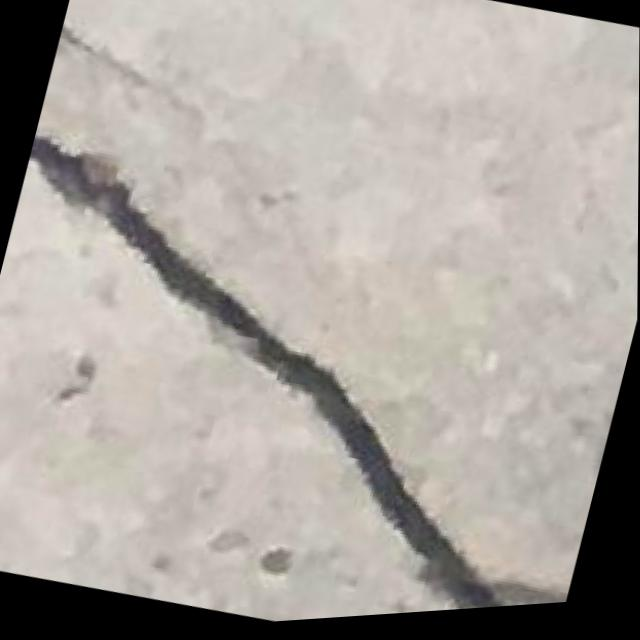Crack: (0, 96, 639, 640)
